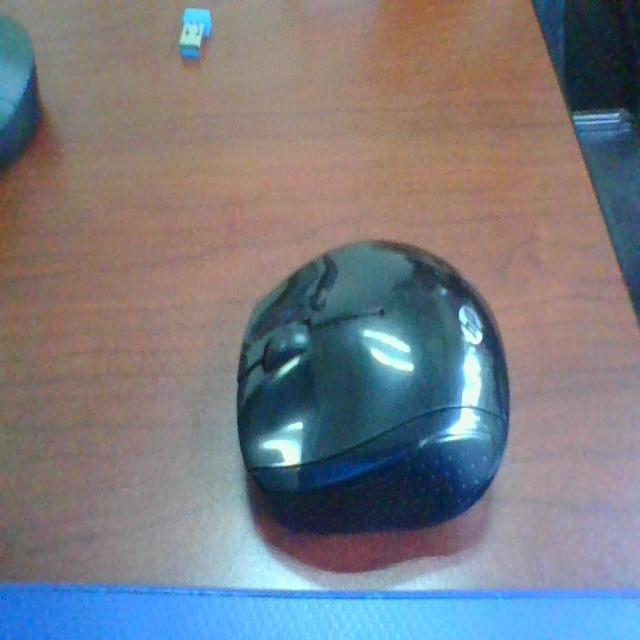mouse: (238, 233, 531, 562)
